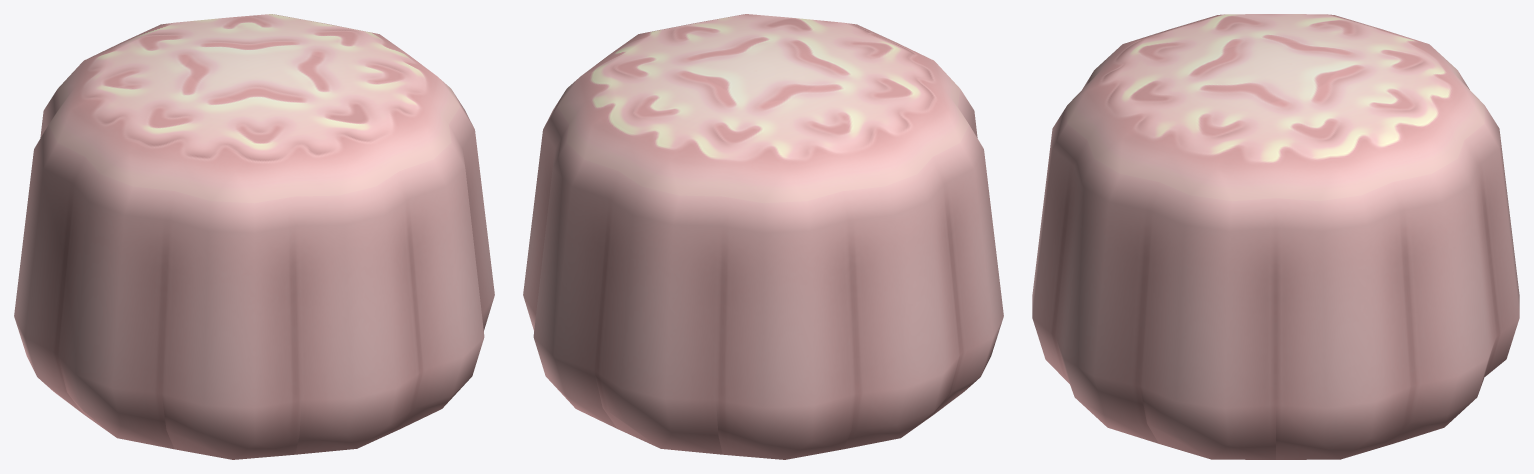
The model's file is 010-Mooncakes_005.FBX.
3 views of the same model, side by side, from view 1: azimuth 30°, elevation 25°; view 2: azimuth 150°, elevation 25°; view 3: azimuth 270°, elevation 25° (orthographic).
Parts seen in each view (by area): view 1: 010-Mooncakes_005; view 2: 010-Mooncakes_005; view 3: 010-Mooncakes_005.
Part boxes in pixels (bbox=[...]): 010-Mooncakes_005: bbox=[14, 14, 494, 459]; 010-Mooncakes_005: bbox=[523, 14, 1003, 459]; 010-Mooncakes_005: bbox=[1032, 14, 1519, 459].
Bounding box in the file's own units: 11.41 × 8.24 × 11.6.
